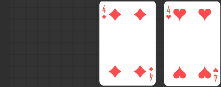4H: (212, 67, 220, 83)
